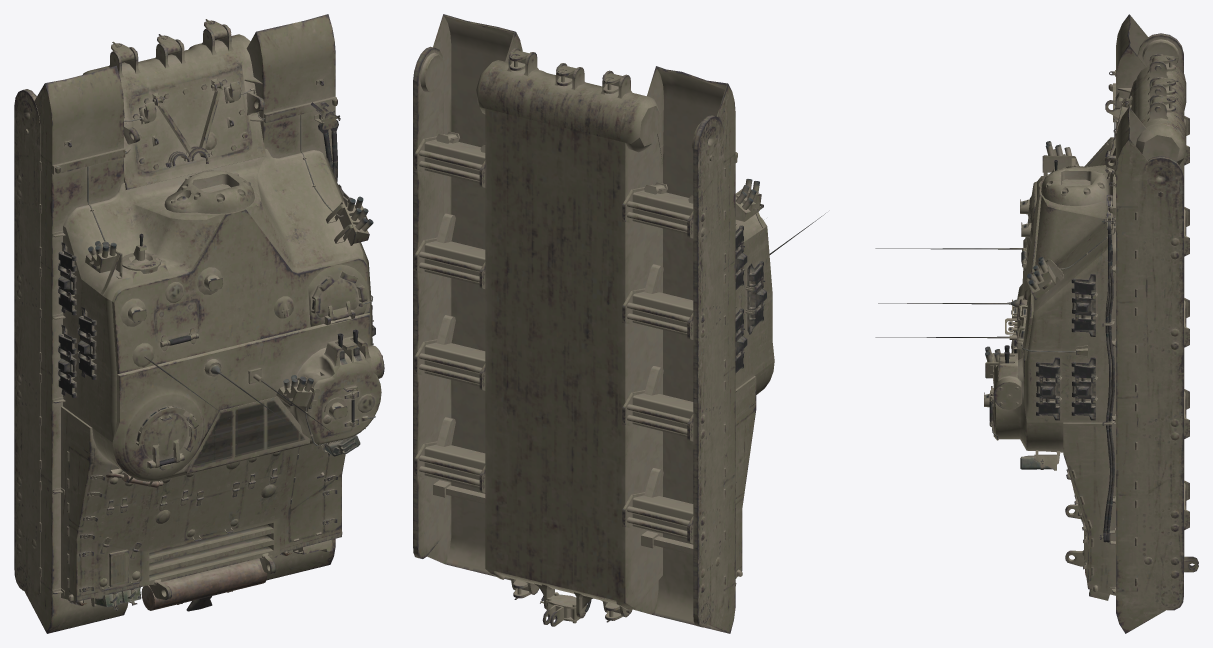
Rendered from Hull.glb.
The picture shows the model from 3 angles, left to right: view 1: azimuth 30°, elevation 25°; view 2: azimuth 150°, elevation 25°; view 3: azimuth 270°, elevation 25°; orthographic projection. The views are drawn at different scales.
Parts seen in each view (by area): view 1: set_0_group_0; view 2: set_0_group_0; view 3: set_0_group_0.
Boxes of the visible parts, <box> form: set_0_group_0: <box>14,14,384,633</box>; set_0_group_0: <box>413,14,825,633</box>; set_0_group_0: <box>875,14,1198,633</box>.
Bounding box in the file's own units: 3.98 × 7.25 × 4.49.
Materials: 1 (1 with a texture image).
